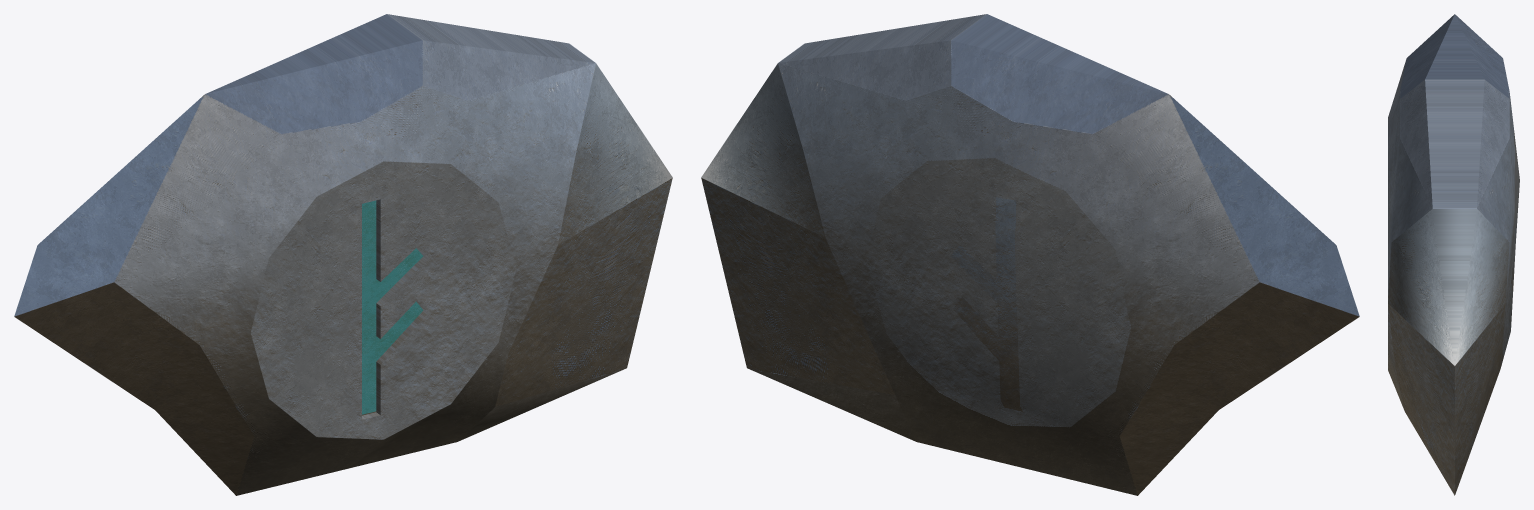
File: Charge_Ares.fbx
3 views of the same model, side by side, from view 1: azimuth 30°, elevation 25°; view 2: azimuth 150°, elevation 25°; view 3: azimuth 270°, elevation 25° (orthographic). The views are drawn at different scales.
Parts seen in each view (by area): view 1: Char_Hercules' Fighting spirit; view 2: Char_Hercules' Fighting spirit; view 3: Char_Hercules' Fighting spirit.
Boxes of the visible parts, x1,y1,x2,y2 form: Char_Hercules' Fighting spirit: [14, 14, 672, 495]; Char_Hercules' Fighting spirit: [701, 14, 1359, 495]; Char_Hercules' Fighting spirit: [1388, 14, 1519, 495].
Bounding box in the file's own units: 67.57 × 41.92 × 14.18.
Materials: 1 (1 with a texture image).
